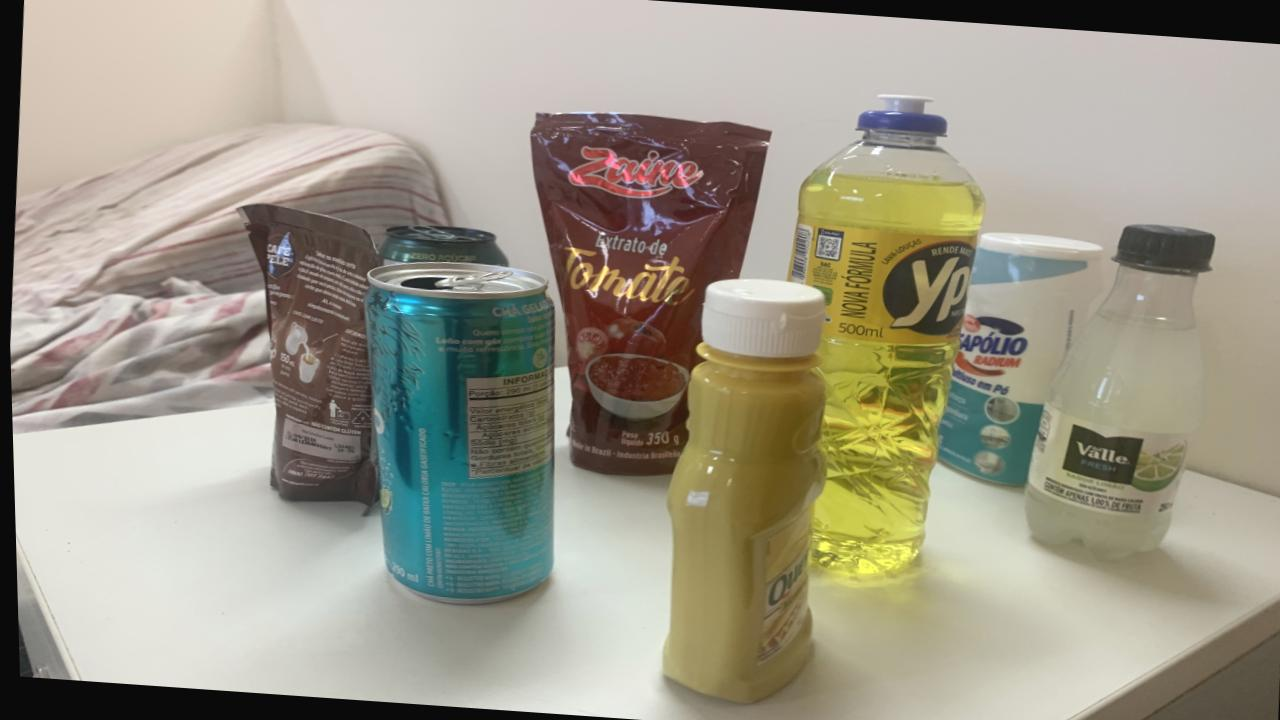Cleaner-Cleanup_Items: (935, 232, 1102, 485)
Coffee-Pantry_Items: (237, 203, 380, 503)
Detergent-Cleanup_Items: (788, 95, 984, 574)
Guarana_Can-Drinks: (378, 225, 508, 265)
Mustard-Pantry_Items: (659, 278, 824, 703)
Soda-Drinks: (1022, 225, 1210, 558)
Tea-Drinks: (362, 261, 553, 603)
Tomato_Sauce-Pantry_Items: (530, 112, 769, 476)
